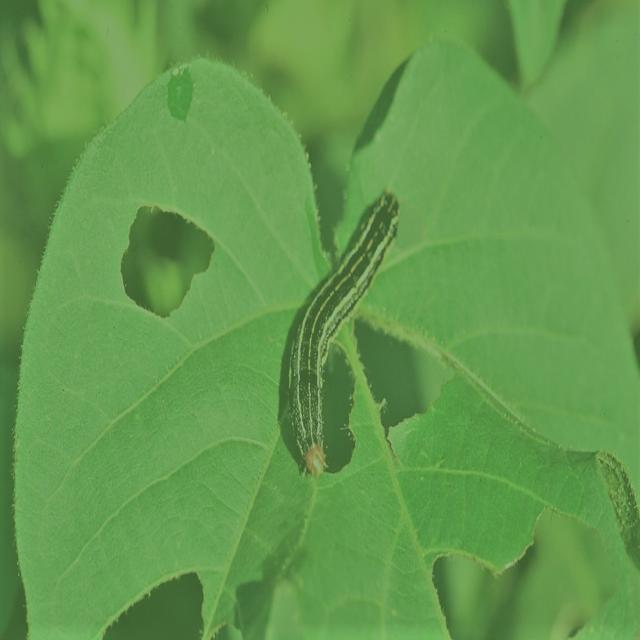armyworm: (281, 188, 400, 478)
